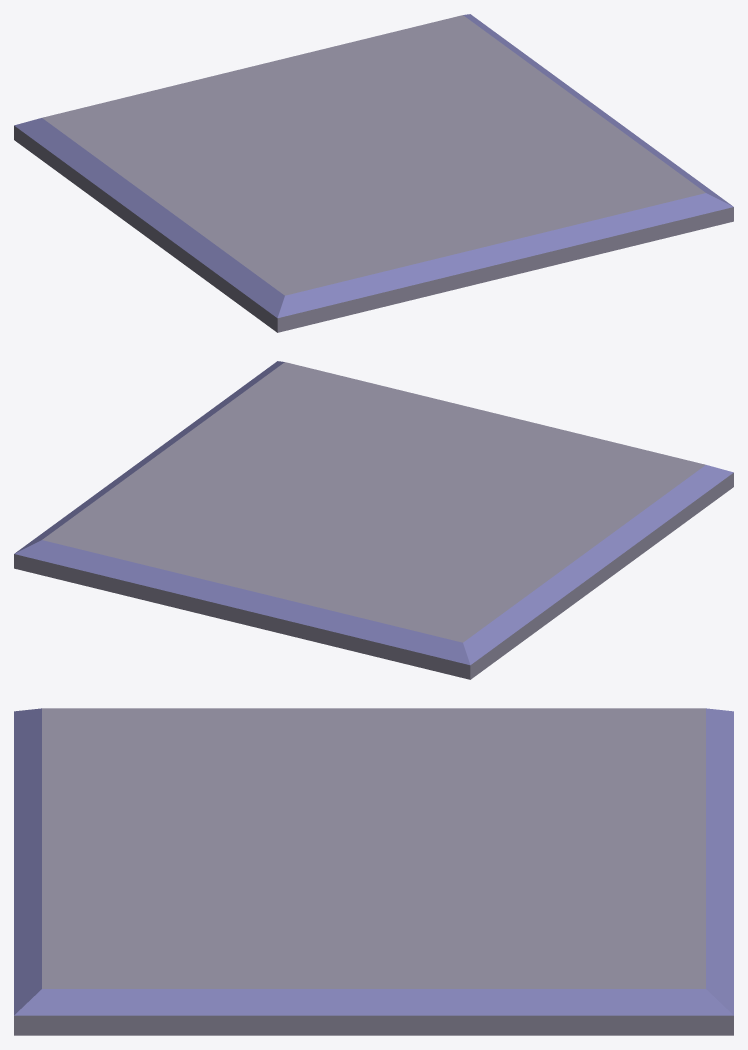
Rendered from TileNeutral.fbx.
3 views of the same model, one above another, from view 1: azimuth 30°, elevation 25°; view 2: azimuth 150°, elevation 25°; view 3: azimuth 270°, elevation 25° (orthographic). The views are drawn at different scales.
Visible parts, largest first — view 1: TileNeutral; view 2: TileNeutral; view 3: TileNeutral.
Boxes of the visible parts, box(x1,y1,x2,y2) form: TileNeutral: box(14, 14, 733, 332); TileNeutral: box(14, 361, 733, 679); TileNeutral: box(14, 708, 733, 1035).
Size of the model in its own units: 200 by 10.63 by 200.
